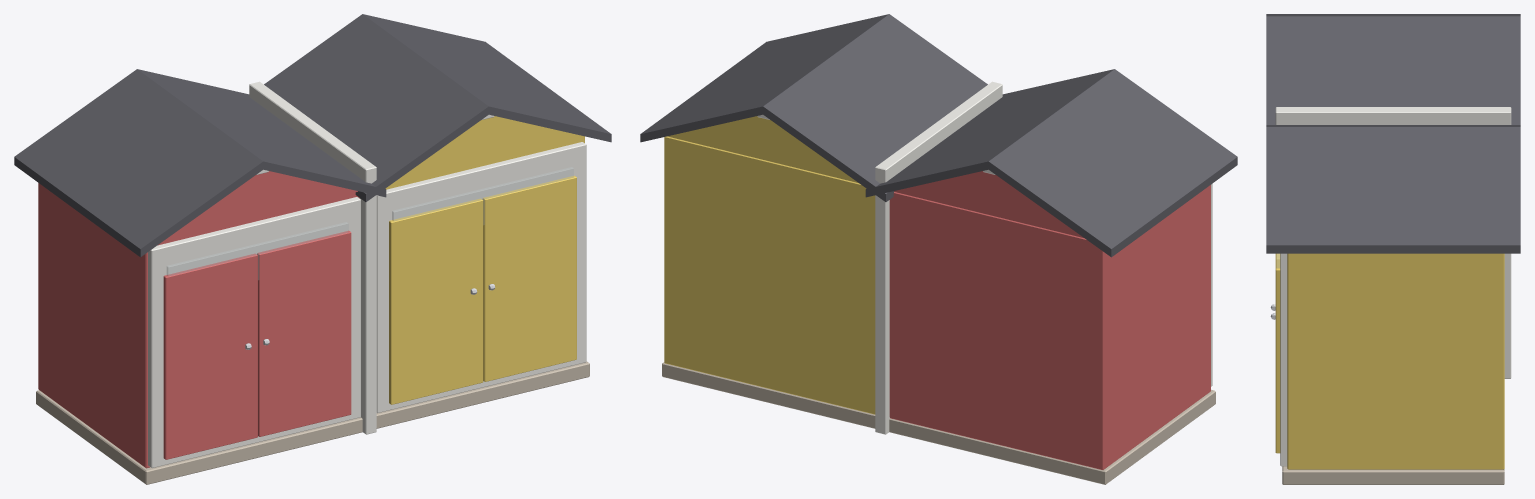
The model's file is amusement-arcade-and-seaside-pier-beach-hut-row-module-51d3f444__35430.glb.
The picture shows the model from 3 angles, left to right: view 1: azimuth 30°, elevation 25°; view 2: azimuth 150°, elevation 25°; view 3: azimuth 270°, elevation 25°; orthographic projection.
Parts seen in each view (by area): view 1: beach-hut-row-module; view 2: beach-hut-row-module; view 3: beach-hut-row-module.
Boxes of the visible parts, <box> form: beach-hut-row-module: <box>14,14,611,484</box>; beach-hut-row-module: <box>640,14,1237,484</box>; beach-hut-row-module: <box>1266,14,1520,484</box>.
Bounding box in the file's own units: 4.18 × 2.57 × 1.94.
